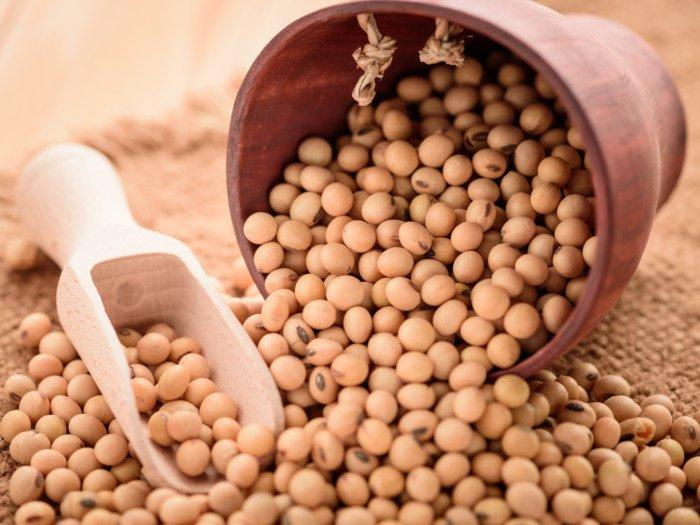soy beans: (1, 44, 697, 524)
